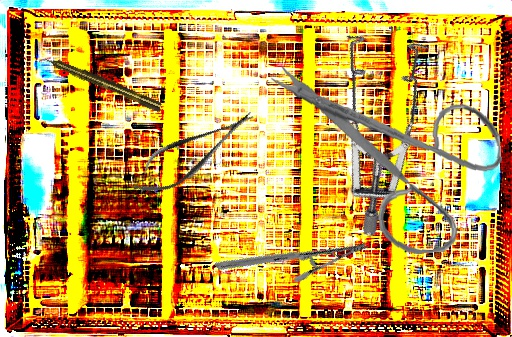Handpiece: (38, 51, 164, 114)
Iris Scissors: (268, 47, 510, 266)
Micro Scissor: (121, 97, 266, 208)
Needle Holder: (214, 184, 369, 328)
Speculum: (256, 2, 487, 241)
